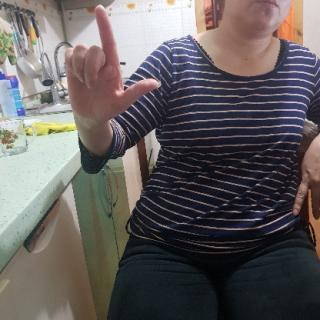LAAM: (64, 2, 162, 134)
